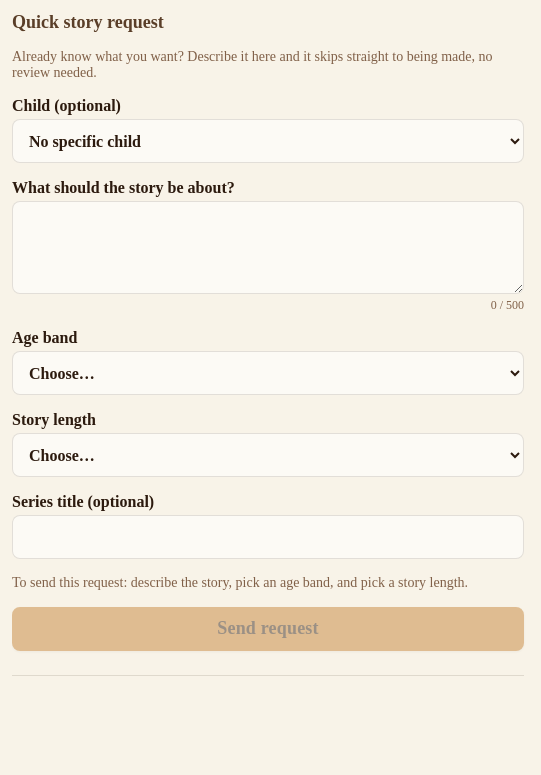
it: RequestStoryForm › guardian mode › resets the story style to prose when selecting a child moves the band out of the teen set
Step 1. Select "Ages 13-16" in the dropdown labelled "Age band" → (268, 373), box [12, 351, 524, 395]
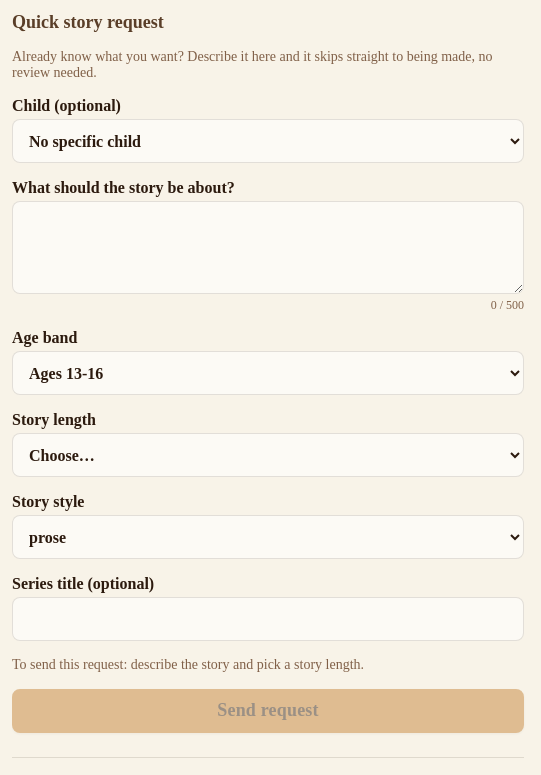
Step 2. Select "gamebook" in the dropdown labelled "Story style" → (268, 537), box [12, 515, 524, 559]
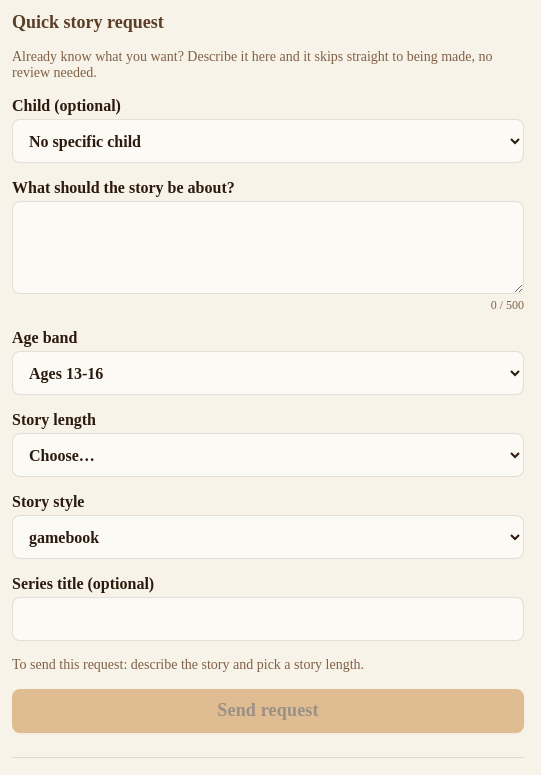
Step 3. Select "Rae" in the dropdown labelled "Child (optional)" → (268, 141), box [12, 119, 524, 163]
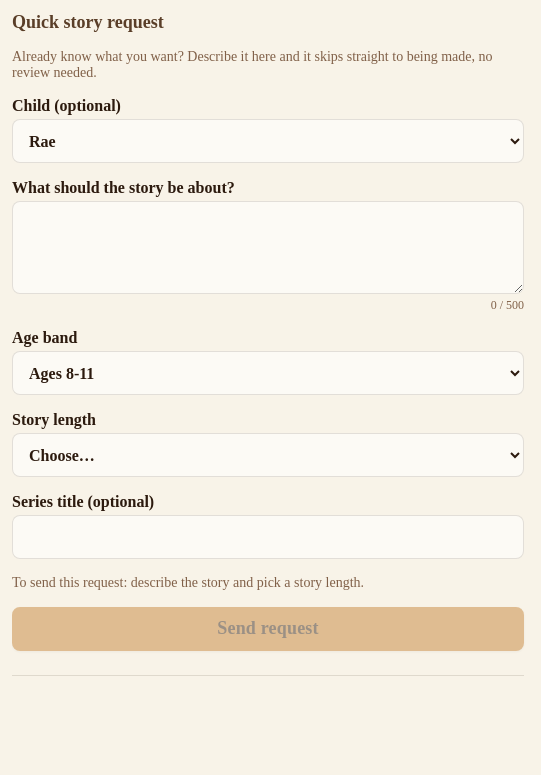
Check: the label labelled "Story style" is gone
Step 4. Select "Ages 13-16" in the dropdown labelled "Age band" → (268, 373), box [12, 351, 524, 395]
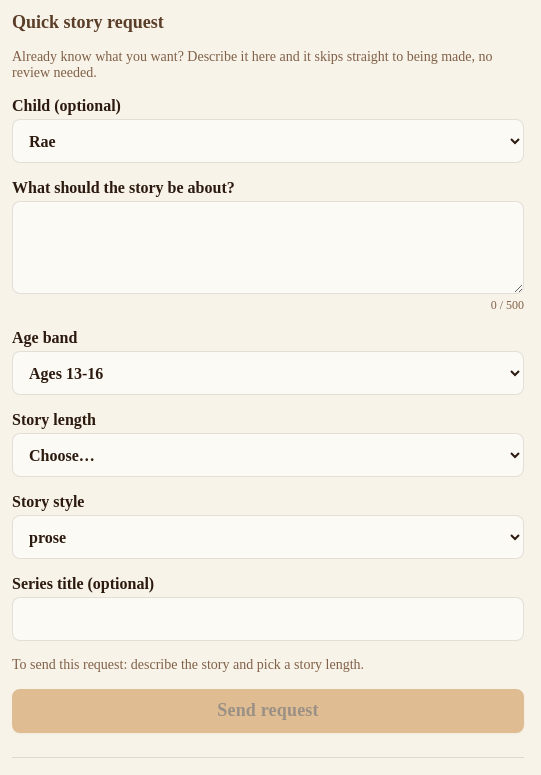
Check: the dropdown labelled "Story style" shows "prose", box [12, 515, 524, 559]
